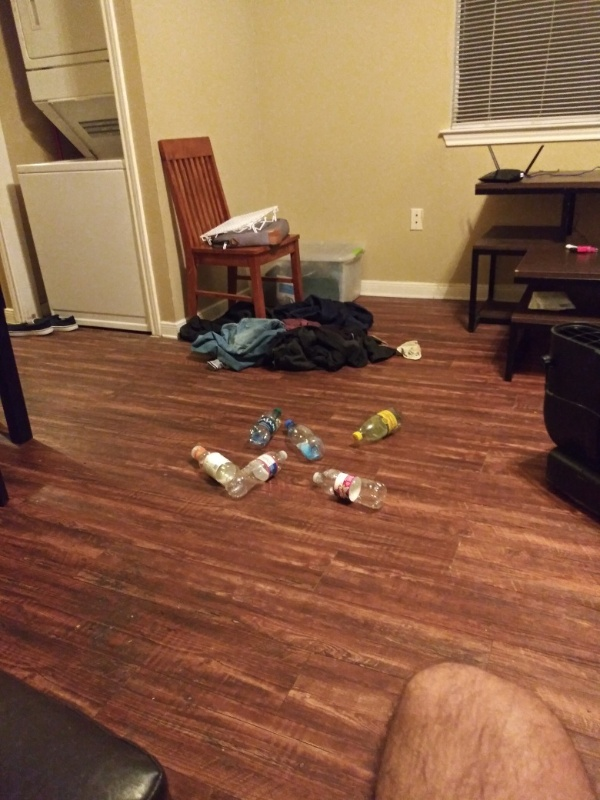bottle: (307, 467, 390, 514), (222, 445, 289, 502), (348, 403, 405, 446), (187, 440, 240, 483), (279, 414, 324, 460), (244, 402, 287, 447)
